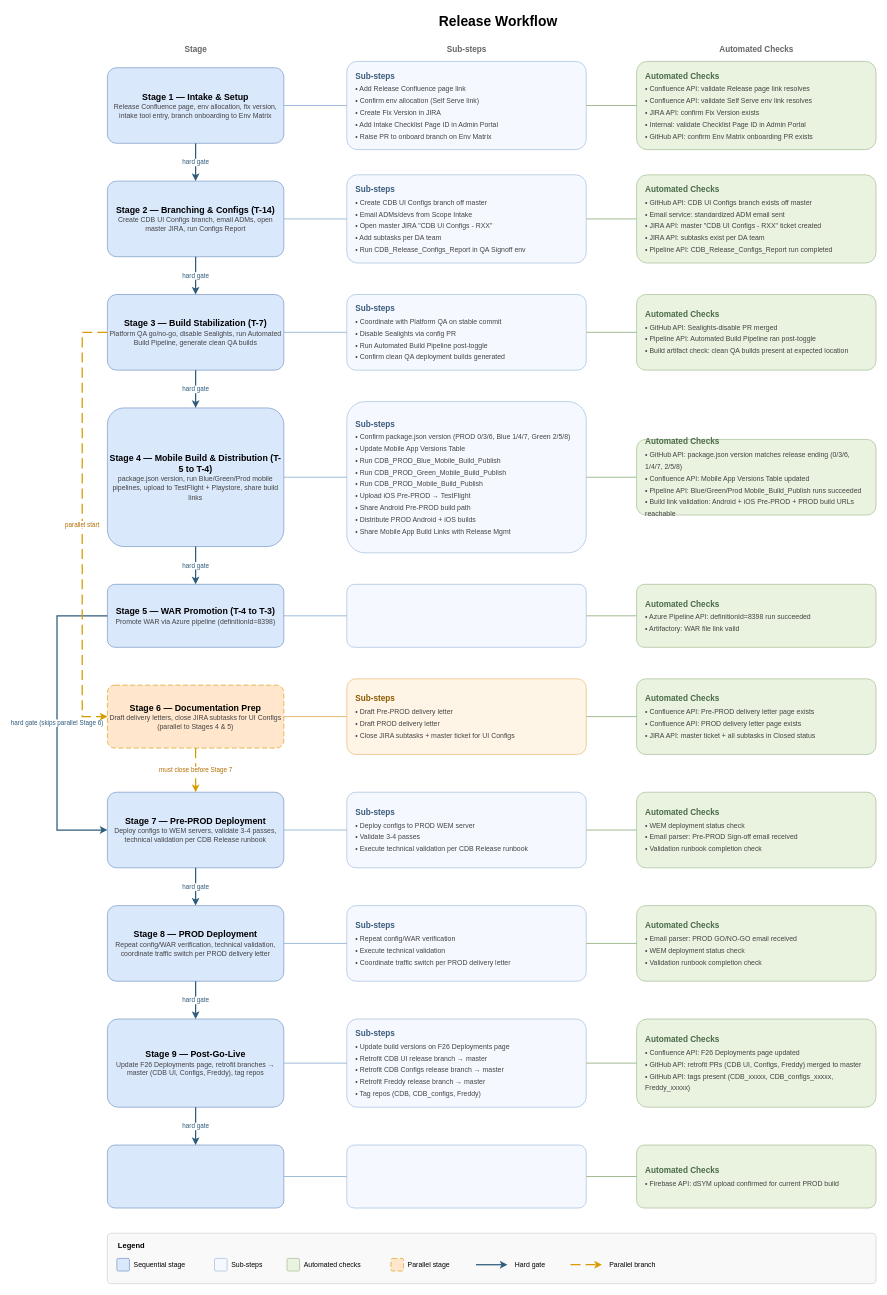
This 887x1295 diagram has some shape labels left out. The box of each missing label's shape, as (x1, y1, x2, y2) in pixels:
Stage 10 — Post Mobile App Release Upload PROD dSYM files to Firebase Console: (107, 1144, 284, 1208)
Sub-steps • Promote WAR via Azure pipeline (definitionId=8398): (346, 584, 586, 647)
Sub-steps • Upload PROD dSYM files to Firebase Console: (346, 1144, 586, 1208)
